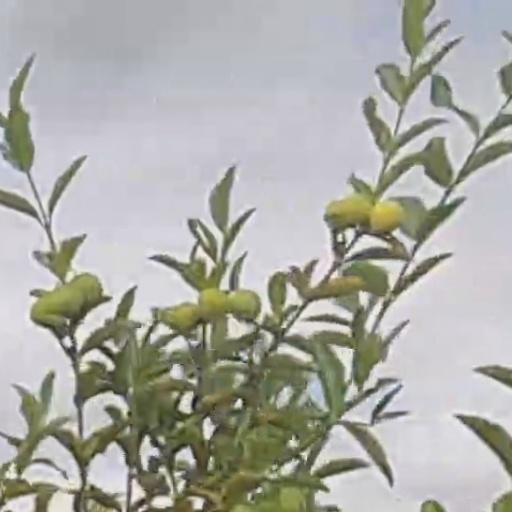acerola_verde: (371, 202, 403, 231), (199, 288, 228, 320), (72, 272, 101, 302), (342, 191, 367, 222), (51, 287, 79, 314), (231, 293, 260, 319), (173, 303, 196, 329)
